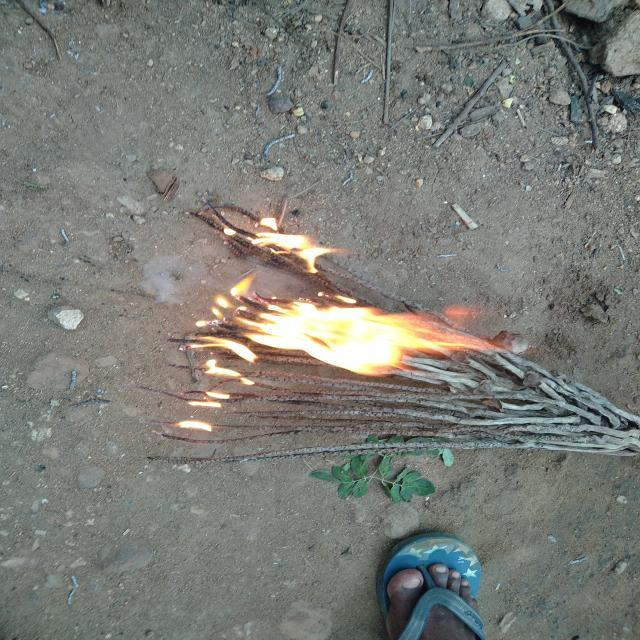Fire: (160, 200, 475, 442)
